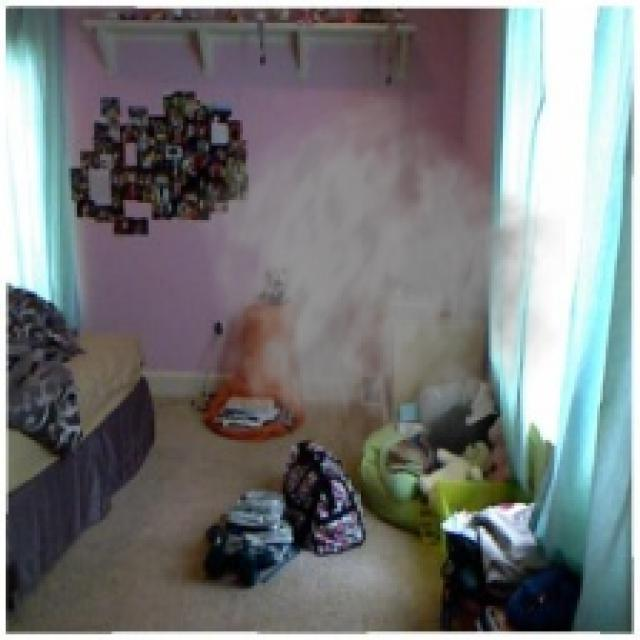Smoke: (194, 94, 566, 492)
